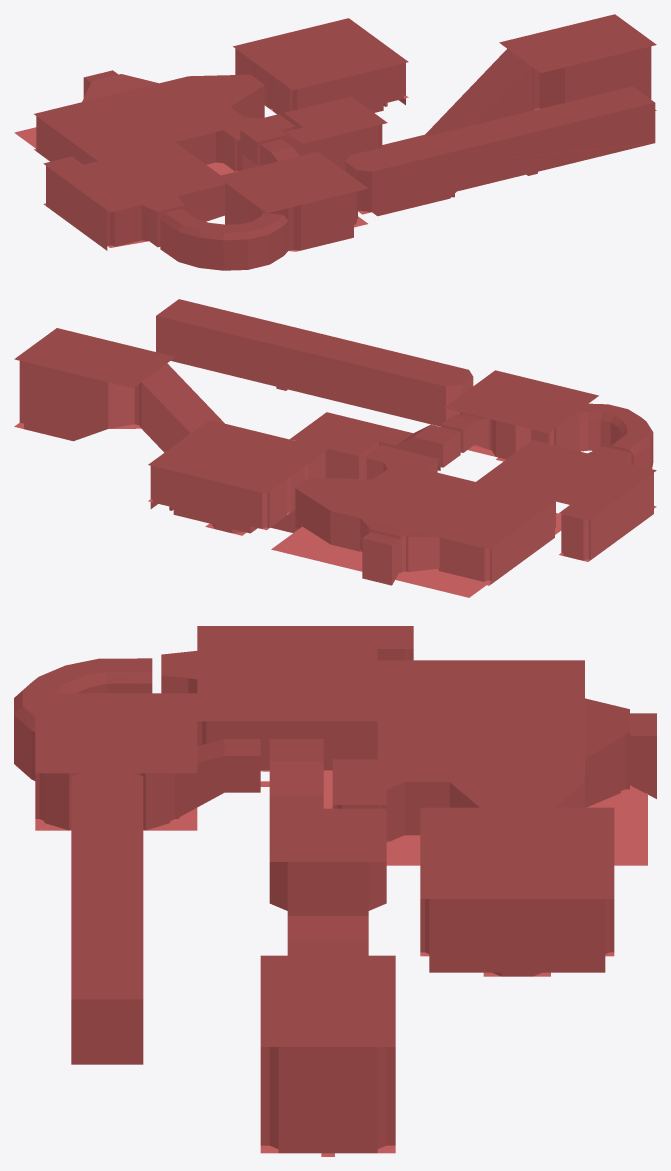
The model's file is col_castle_b1.glb.
3 views of the same model, one above another, from view 1: azimuth 30°, elevation 25°; view 2: azimuth 150°, elevation 25°; view 3: azimuth 270°, elevation 25° (orthographic). The views are drawn at different scales.
Parts seen in each view (by area): view 1: castle_b1_col; view 2: castle_b1_col; view 3: castle_b1_col.
Boxes of the visible parts, x1,y1,x2,y2 form: castle_b1_col: (14,14,656,270); castle_b1_col: (14,299,656,597); castle_b1_col: (14,626,656,1156).
Size of the model in its own units: 11.8 by 2.2 by 7.14.
